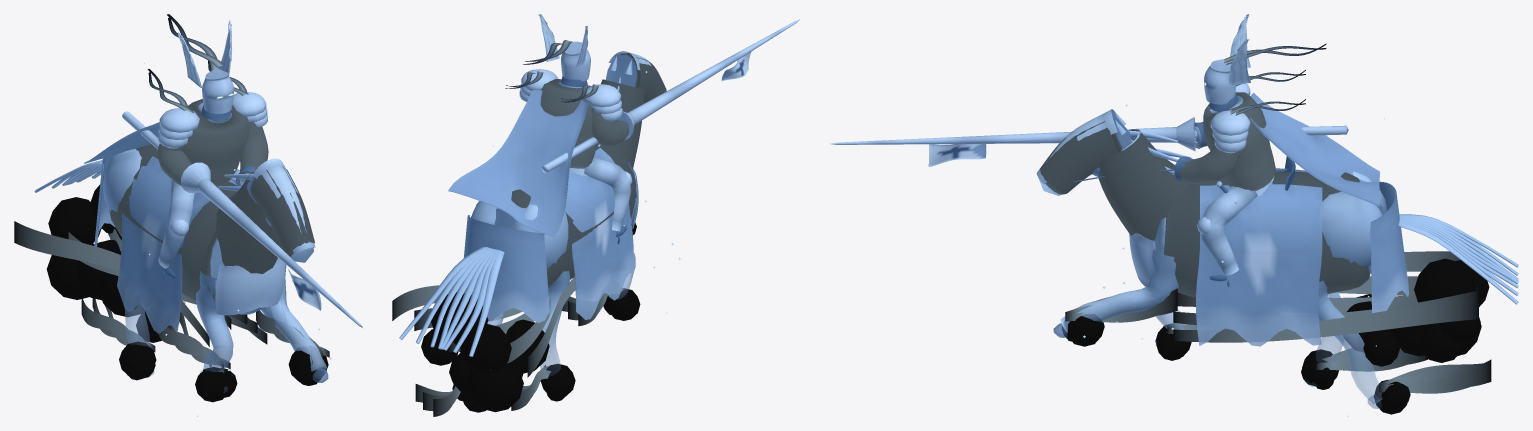
File: algis.glb
3 views of the same model, side by side, from view 1: azimuth 30°, elevation 25°; view 2: azimuth 150°, elevation 25°; view 3: azimuth 270°, elevation 25° (orthographic). The views are drawn at different scales.
Parts seen in each view (by area): view 1: algis-fx, algis-ghost; view 2: algis-ghost, algis-fx; view 3: algis-ghost, algis-fx.
Boxes of the visible parts, box(x1,y1,x2,y2) form: algis-fx: box(14, 14, 329, 402); algis-ghost: box(34, 20, 363, 392); algis-ghost: box(399, 14, 799, 376); algis-fx: box(392, 40, 666, 416); algis-ghost: box(830, 14, 1518, 408); algis-fx: box(1039, 43, 1491, 414).
Size of the model in its own units: 0.88 by 2.04 by 3.38.
